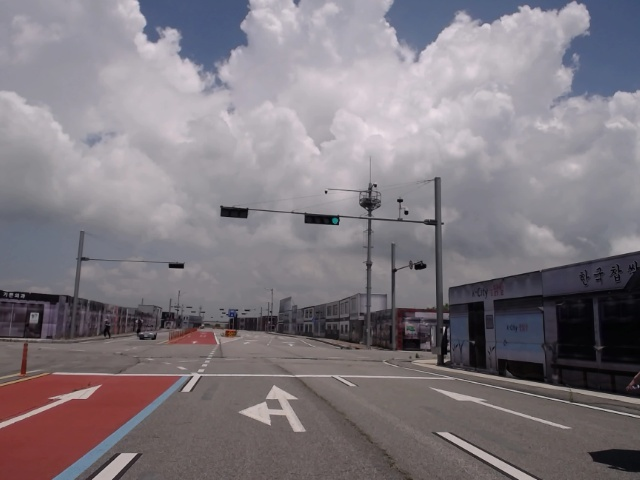straight_green_4: (305, 213, 341, 225)
